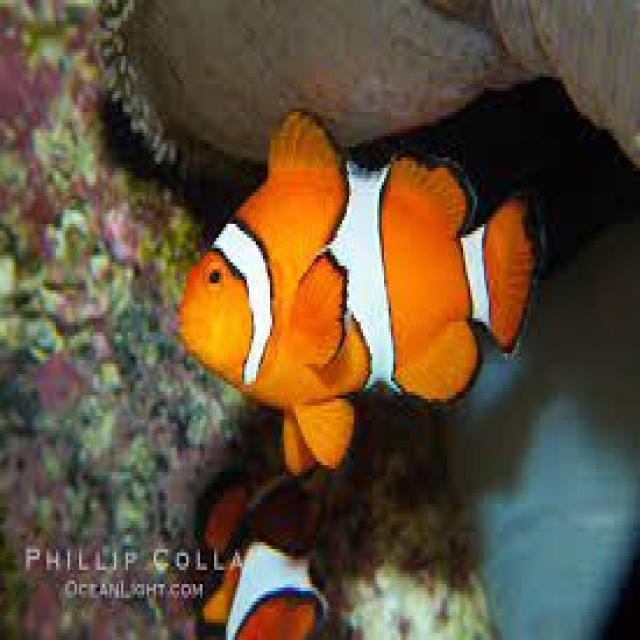ClownFish: (178, 114, 530, 476), (200, 490, 338, 640)
